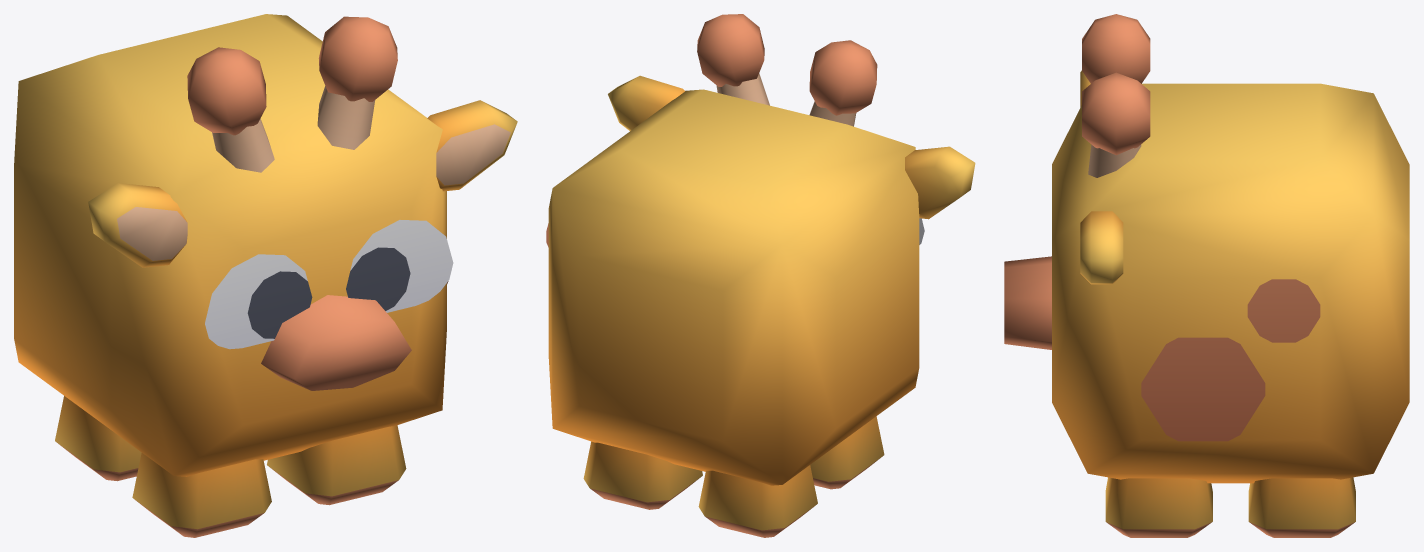
File: cc0-giraffe-lod0.glb
3 views of the same model, side by side, from view 1: azimuth 30°, elevation 25°; view 2: azimuth 150°, elevation 25°; view 3: azimuth 270°, elevation 25° (orthographic). The views are drawn at different scales.
Parts seen in each view (by area): view 1: part_1, part_5, part_4, part_3; view 2: part_1, part_3, part_2, part_5; view 3: part_1, part_2, part_4.
Boxes of the visible parts, x1,y1,x2,y2 form: part_1: (14,14,517,476); part_5: (132,453,271,537); part_4: (267,425,406,505); part_3: (55,396,141,481); part_1: (546,14,975,485); part_3: (698,465,817,537); part_2: (583,441,702,509); part_5: (810,416,884,489); part_1: (1004,14,1409,483); part_2: (1248,477,1355,537); part_4: (1105,477,1212,537).
Size of the model in its own units: 1.56 by 1.71 by 1.42.
1 material, 1 textured.
